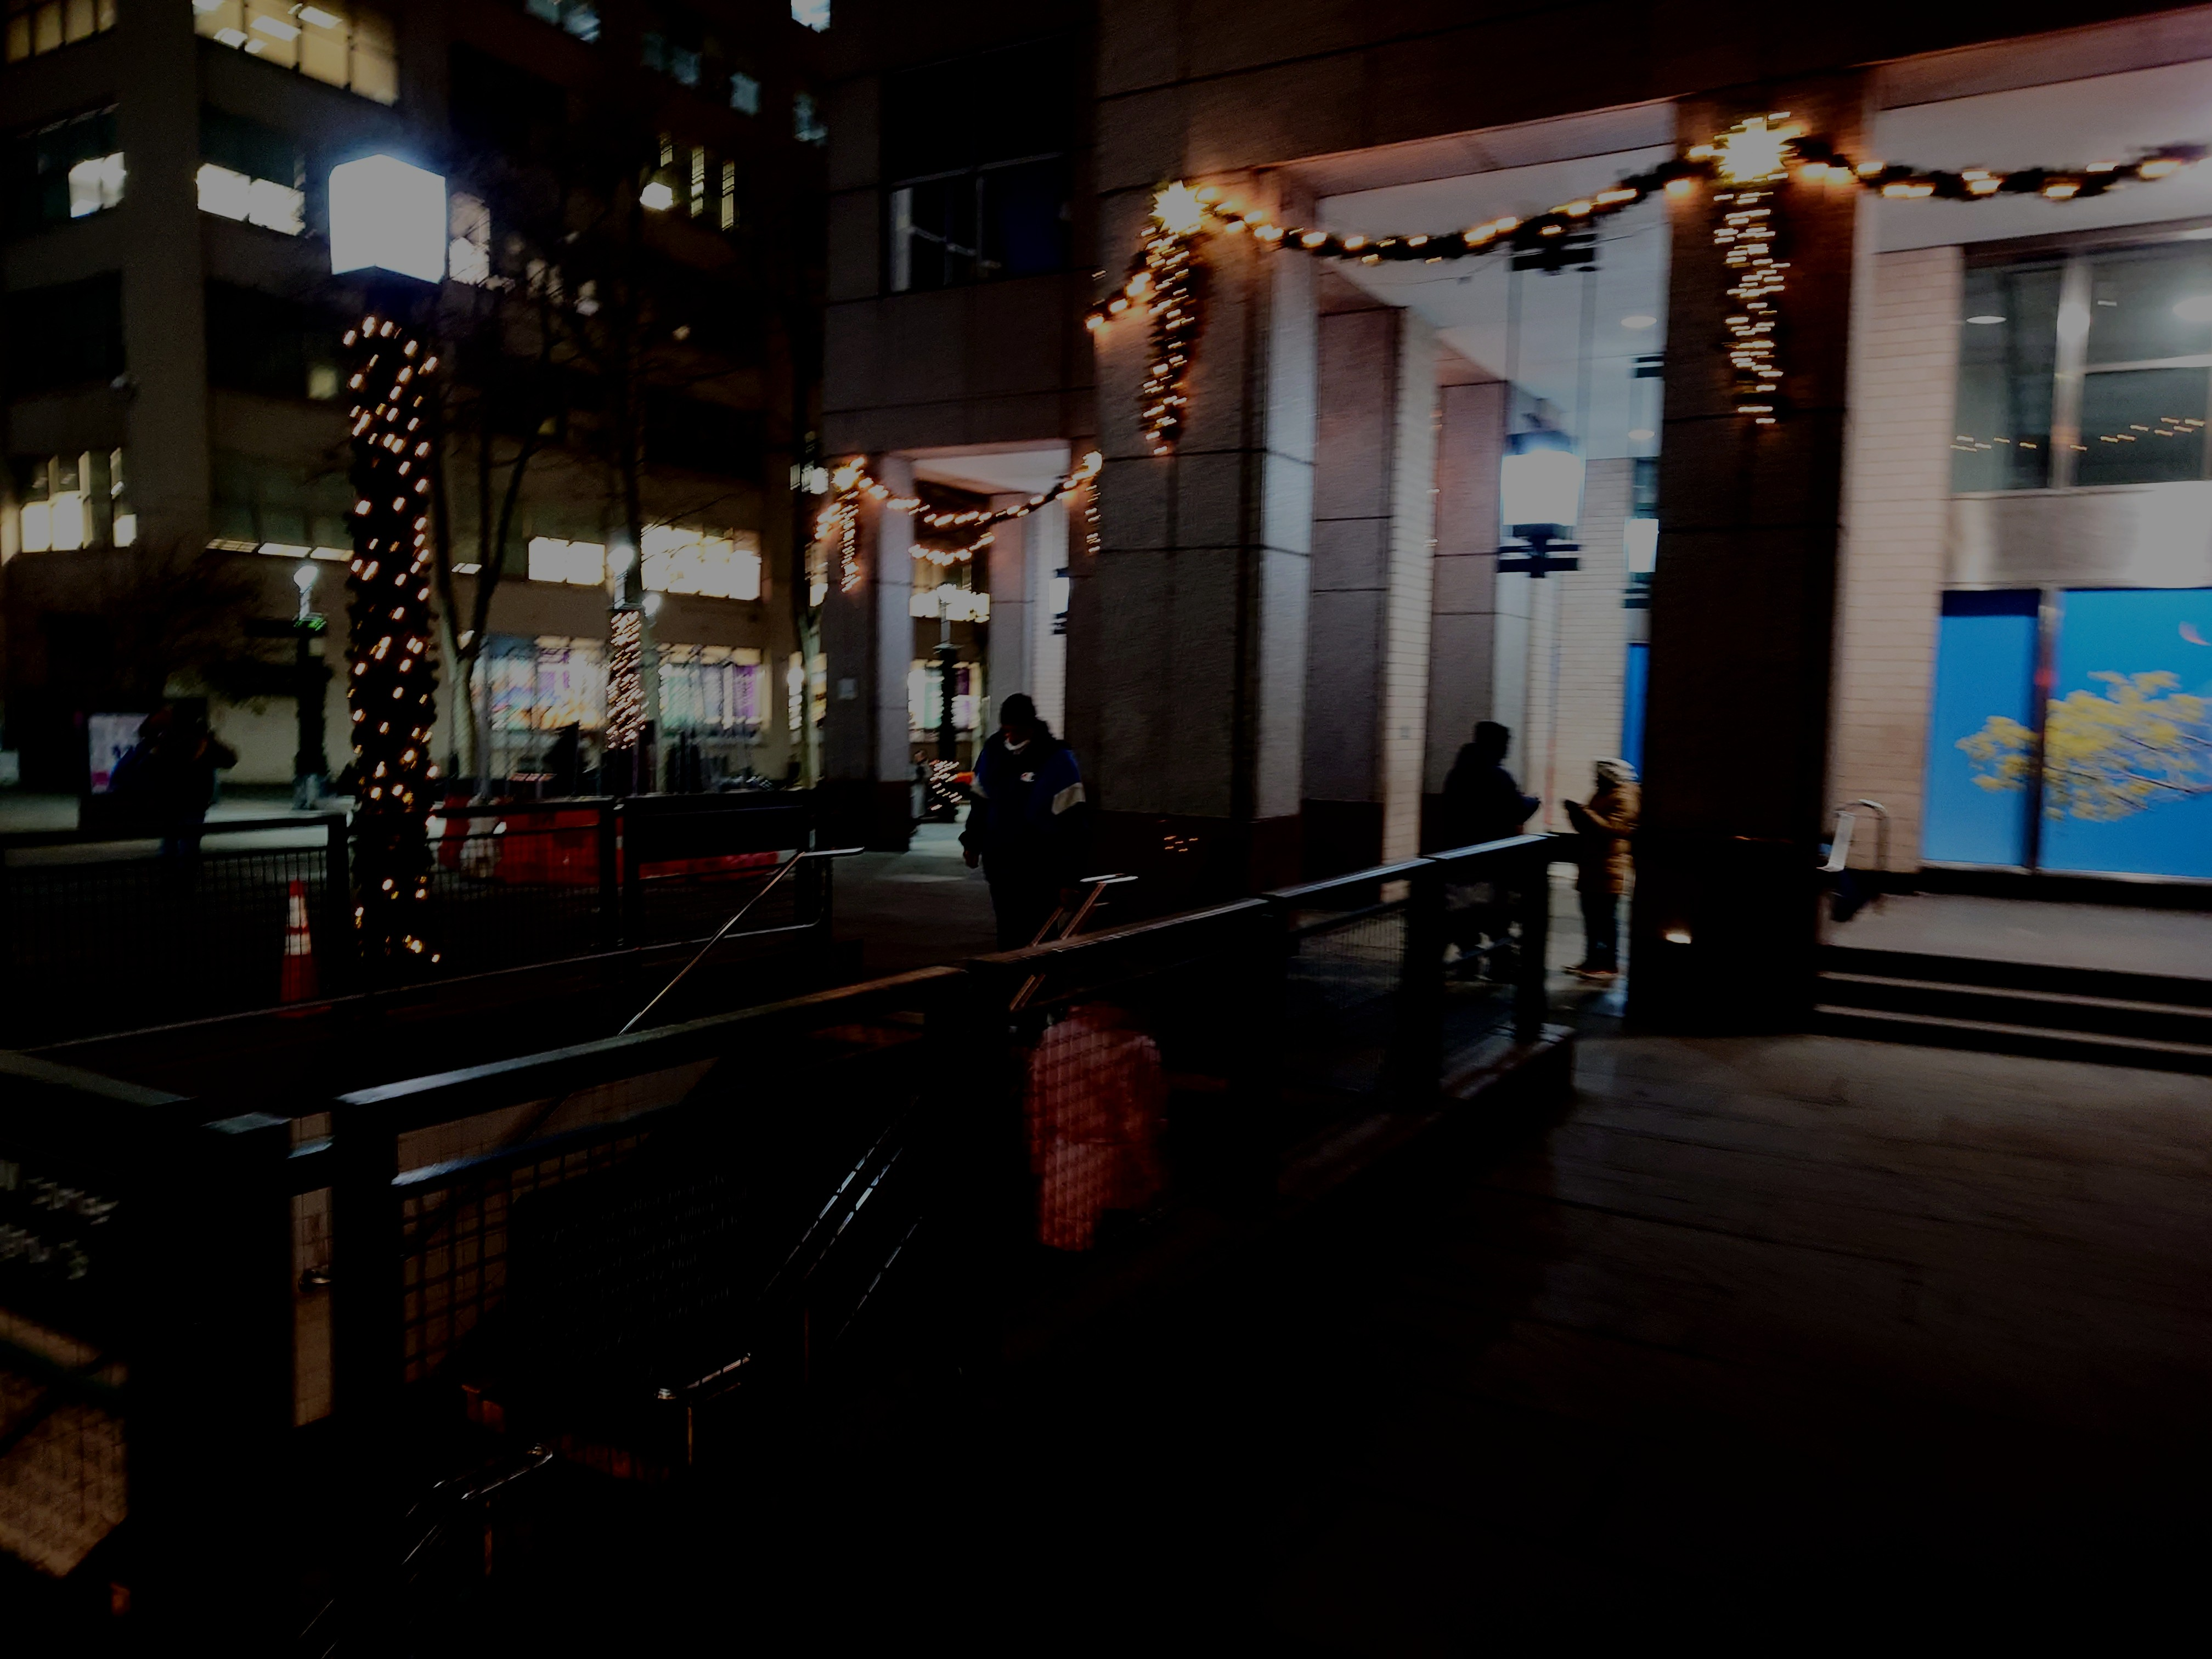person: (955, 693, 1089, 1009), (1036, 978, 1174, 1268), (1430, 721, 1545, 995), (142, 696, 240, 923), (1558, 755, 1638, 986)
